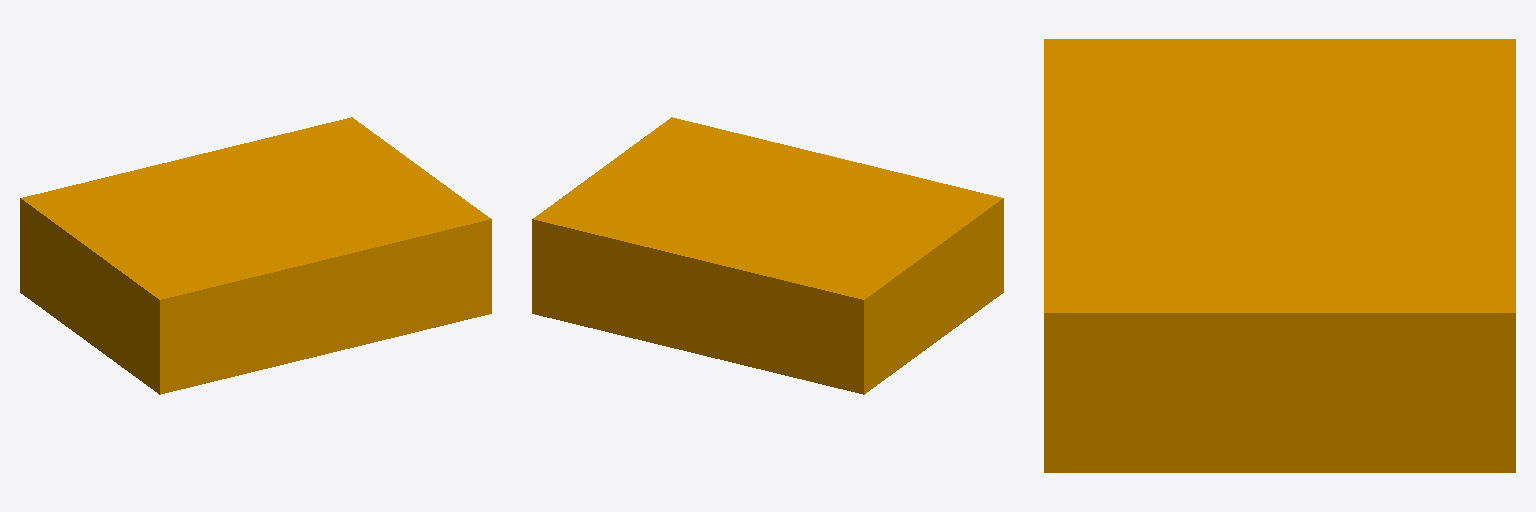
URDF robot description (mini_whegs):
<?xml version="1.0" encoding="utf-8"?>
<robot name="mini_whegs">
  <link name="base">
    <inertial>
      <origin xyz="0.000000 0.000000 0.000000" rpy="0 0 0"/>
      <mass value="0.433295"/>
      <inertia ixx="1.054351e-3" iyy="1.877612e-3" izz="2.671986e-3" ixy="0" ixz="0" iyz="0"/>
    </inertial>
    <visual>
      <origin xyz="0 0 0" rpy="0 0 0"/>
      <geometry>
        <mesh filename="package://mini_whegs/meshes/catalog_chassis_quadruped_body__height-60__hip_spacing_x-140__hip_spacing_y-120__length-220__width-160.stl"/>
      </geometry>
    </visual>
    <collision>
      <origin xyz="0 0 0" rpy="0 0 0"/>
      <geometry>
        <mesh filename="package://mini_whegs/meshes/catalog_chassis_quadruped_body__height-60__hip_spacing_x-140__hip_spacing_y-120__length-220__width-160.stl"/>
      </geometry>
    </collision>
  </link>
  <link name="FL_wheg">
    <inertial>
      <origin xyz="0.000000 0.000000 0.000000" rpy="0 0 0"/>
      <mass value="0.016513"/>
      <inertia ixx="3.901244e-6" iyy="7.802487e-6" izz="3.901244e-6" ixy="0" ixz="0" iyz="0"/>
    </inertial>
    <visual>
      <origin xyz="0 0 0" rpy="0 0 0"/>
      <geometry>
        <mesh filename="package://mini_whegs/meshes/catalog_wheels_wheg__hub_radius-10__hub_thickness-8__spoke_length-45__spoke_thickness-8__spoke_width-12.stl"/>
      </geometry>
    </visual>
    <collision>
      <origin xyz="0 0 0" rpy="0 0 0"/>
      <geometry>
        <mesh filename="package://mini_whegs/meshes/catalog_wheels_wheg__hub_radius-10__hub_thickness-8__spoke_length-45__spoke_thickness-8__spoke_width-12.stl"/>
      </geometry>
    </collision>
  </link>
  <link name="FR_wheg">
    <inertial>
      <origin xyz="0.000000 0.000000 0.000000" rpy="0 0 0"/>
      <mass value="0.016513"/>
      <inertia ixx="3.901244e-6" iyy="7.802487e-6" izz="3.901244e-6" ixy="0" ixz="0" iyz="0"/>
    </inertial>
    <visual>
      <origin xyz="0 0 0" rpy="0 0 0"/>
      <geometry>
        <mesh filename="package://mini_whegs/meshes/catalog_wheels_wheg__hub_radius-10__hub_thickness-8__spoke_length-45__spoke_thickness-8__spoke_width-12.stl"/>
      </geometry>
    </visual>
    <collision>
      <origin xyz="0 0 0" rpy="0 0 0"/>
      <geometry>
        <mesh filename="package://mini_whegs/meshes/catalog_wheels_wheg__hub_radius-10__hub_thickness-8__spoke_length-45__spoke_thickness-8__spoke_width-12.stl"/>
      </geometry>
    </collision>
  </link>
  <link name="RL_wheg">
    <inertial>
      <origin xyz="0.000000 0.000000 0.000000" rpy="0 0 0"/>
      <mass value="0.016513"/>
      <inertia ixx="3.901244e-6" iyy="7.802487e-6" izz="3.901244e-6" ixy="0" ixz="0" iyz="0"/>
    </inertial>
    <visual>
      <origin xyz="0 0 0" rpy="0 0 0"/>
      <geometry>
        <mesh filename="package://mini_whegs/meshes/catalog_wheels_wheg__hub_radius-10__hub_thickness-8__spoke_length-45__spoke_thickness-8__spoke_width-12.stl"/>
      </geometry>
    </visual>
    <collision>
      <origin xyz="0 0 0" rpy="0 0 0"/>
      <geometry>
        <mesh filename="package://mini_whegs/meshes/catalog_wheels_wheg__hub_radius-10__hub_thickness-8__spoke_length-45__spoke_thickness-8__spoke_width-12.stl"/>
      </geometry>
    </collision>
  </link>
  <link name="RR_wheg">
    <inertial>
      <origin xyz="0.000000 0.000000 0.000000" rpy="0 0 0"/>
      <mass value="0.016513"/>
      <inertia ixx="3.901244e-6" iyy="7.802487e-6" izz="3.901244e-6" ixy="0" ixz="0" iyz="0"/>
    </inertial>
    <visual>
      <origin xyz="0 0 0" rpy="0 0 0"/>
      <geometry>
        <mesh filename="package://mini_whegs/meshes/catalog_wheels_wheg__hub_radius-10__hub_thickness-8__spoke_length-45__spoke_thickness-8__spoke_width-12.stl"/>
      </geometry>
    </visual>
    <collision>
      <origin xyz="0 0 0" rpy="0 0 0"/>
      <geometry>
        <mesh filename="package://mini_whegs/meshes/catalog_wheels_wheg__hub_radius-10__hub_thickness-8__spoke_length-45__spoke_thickness-8__spoke_width-12.stl"/>
      </geometry>
    </collision>
  </link>
  <joint name="FL_WHEG_drive" type="continuous">
    <parent link="base"/>
    <child link="FL_wheg"/>
    <origin xyz="0.070000 0.060000 -0.030000" rpy="0.000000 0.000000 0.000000"/>
    <axis xyz="0.000000 1.000000 0.000000"/>
    <limit effort="1.500" velocity="20.000"/>
  </joint>
  <transmission name="FL_WHEG_drive_trans">
    <type>transmission_interface/SimpleTransmission</type>
    <joint name="FL_WHEG_drive">
      <hardwareInterface>hardware_interface/EffortJointInterface</hardwareInterface>
    </joint>
    <actuator name="FL_WHEG_drive_motor">
      <hardwareInterface>hardware_interface/EffortJointInterface</hardwareInterface>
      <mechanicalReduction>1</mechanicalReduction>
    </actuator>
  </transmission>
  <joint name="FR_WHEG_drive" type="continuous">
    <parent link="base"/>
    <child link="FR_wheg"/>
    <origin xyz="0.070000 -0.060000 -0.030000" rpy="0.000000 0.000000 0.000000"/>
    <axis xyz="0.000000 1.000000 0.000000"/>
    <limit effort="1.500" velocity="20.000"/>
  </joint>
  <transmission name="FR_WHEG_drive_trans">
    <type>transmission_interface/SimpleTransmission</type>
    <joint name="FR_WHEG_drive">
      <hardwareInterface>hardware_interface/EffortJointInterface</hardwareInterface>
    </joint>
    <actuator name="FR_WHEG_drive_motor">
      <hardwareInterface>hardware_interface/EffortJointInterface</hardwareInterface>
      <mechanicalReduction>1</mechanicalReduction>
    </actuator>
  </transmission>
  <joint name="RL_WHEG_drive" type="continuous">
    <parent link="base"/>
    <child link="RL_wheg"/>
    <origin xyz="-0.070000 0.060000 -0.030000" rpy="0.000000 0.000000 0.000000"/>
    <axis xyz="0.000000 1.000000 0.000000"/>
    <limit effort="1.500" velocity="20.000"/>
  </joint>
  <transmission name="RL_WHEG_drive_trans">
    <type>transmission_interface/SimpleTransmission</type>
    <joint name="RL_WHEG_drive">
      <hardwareInterface>hardware_interface/EffortJointInterface</hardwareInterface>
    </joint>
    <actuator name="RL_WHEG_drive_motor">
      <hardwareInterface>hardware_interface/EffortJointInterface</hardwareInterface>
      <mechanicalReduction>1</mechanicalReduction>
    </actuator>
  </transmission>
  <joint name="RR_WHEG_drive" type="continuous">
    <parent link="base"/>
    <child link="RR_wheg"/>
    <origin xyz="-0.070000 -0.060000 -0.030000" rpy="0.000000 0.000000 0.000000"/>
    <axis xyz="0.000000 1.000000 0.000000"/>
    <limit effort="1.500" velocity="20.000"/>
  </joint>
  <transmission name="RR_WHEG_drive_trans">
    <type>transmission_interface/SimpleTransmission</type>
    <joint name="RR_WHEG_drive">
      <hardwareInterface>hardware_interface/EffortJointInterface</hardwareInterface>
    </joint>
    <actuator name="RR_WHEG_drive_motor">
      <hardwareInterface>hardware_interface/EffortJointInterface</hardwareInterface>
      <mechanicalReduction>1</mechanicalReduction>
    </actuator>
  </transmission>
</robot>

--- Facts derived from the render (not from the file) ---
Views: 3 orthographic renders of the robot side by side, from view 1: azimuth 30°, elevation 25°; view 2: azimuth 150°, elevation 25°; view 3: azimuth 270°, elevation 25°.
Model mini_whegs with 5 links and 4 joints (4 continuous), rooted at base, posed all joints at 0.
Links seen in each view (by area): view 1: base; view 2: base; view 3: base.
Link boxes in pixels (x1,y1,x2,y2): base: [20, 117, 491, 394]; base: [532, 117, 1003, 394]; base: [1044, 39, 1515, 472].
Size in the robot's own frame: 220 by 160 by 75.03 metres.
Meshes: 2 distinct files referenced, 5 mesh visuals loaded (2 binary STL).
